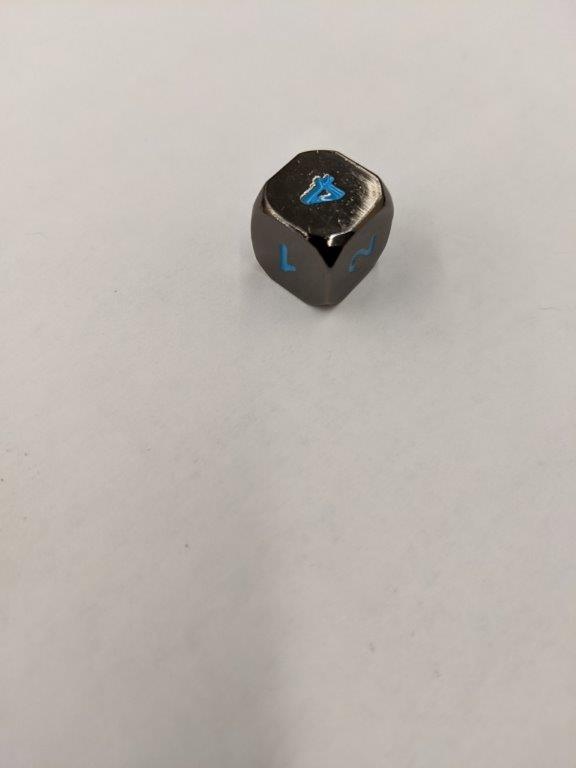d6-4: (253, 149, 394, 308)
